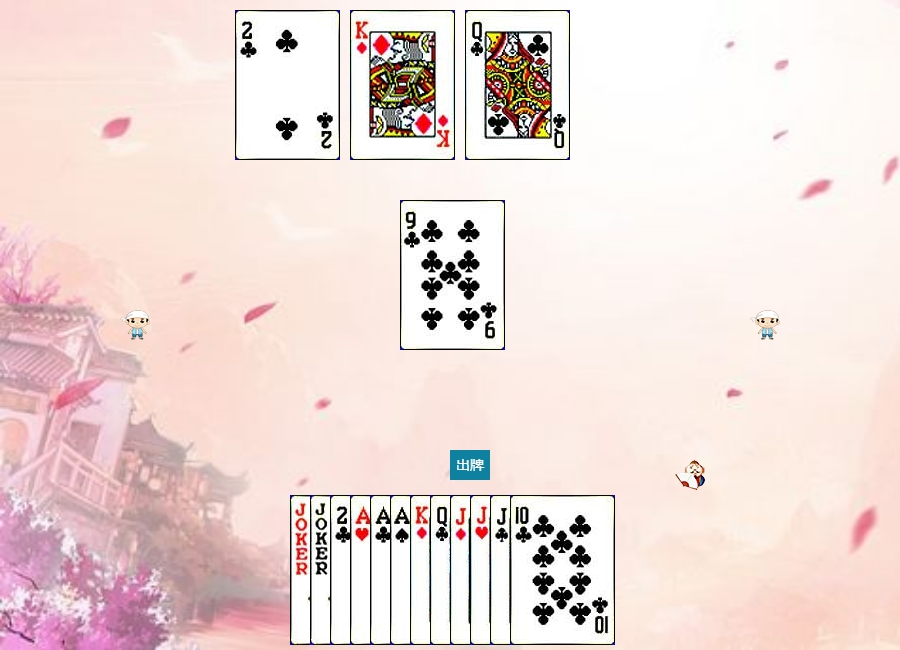10~2: (510, 495, 615, 645)
11~1: (450, 495, 555, 645)
11~2: (490, 495, 595, 645)
11~3: (470, 495, 575, 645)
12~2: (465, 10, 570, 160), (430, 495, 535, 645)
13~1: (350, 10, 455, 160), (410, 495, 515, 645)
14~2: (370, 495, 475, 645)
14~3: (350, 495, 455, 645)
14~4: (390, 495, 495, 645)
15~2: (235, 10, 340, 160), (330, 495, 435, 645)
17~3: (310, 495, 415, 645)
18~4: (290, 495, 395, 645)
9~2: (400, 200, 505, 350)
